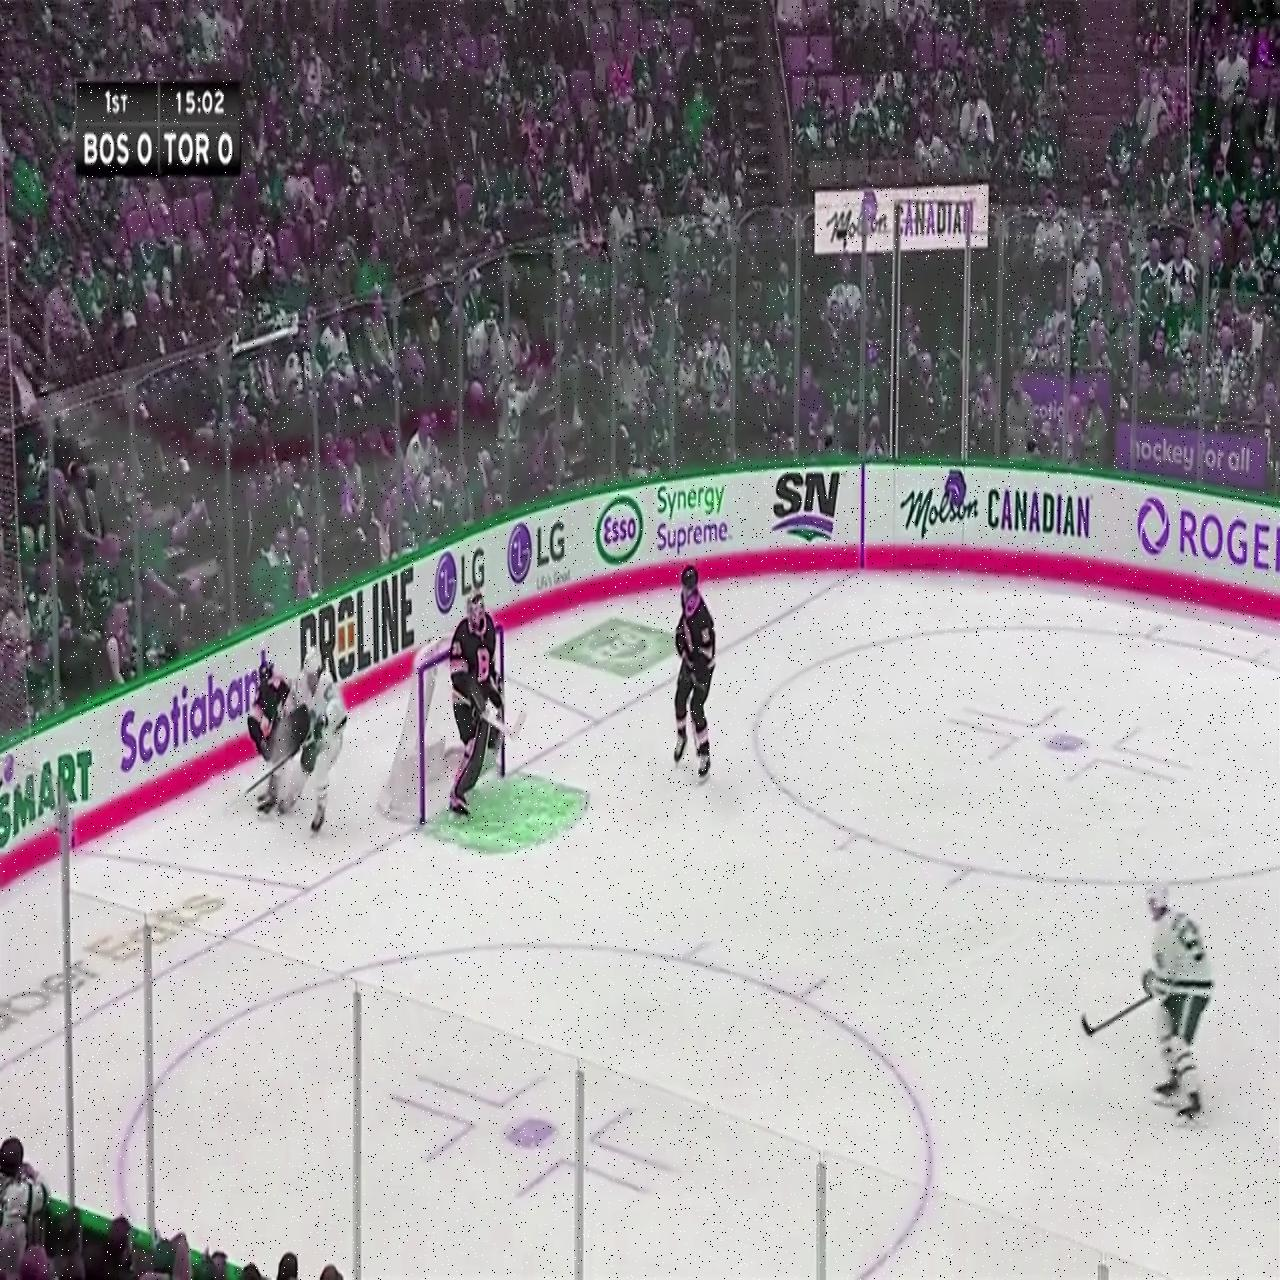Ad: (0, 876, 220, 1050), (893, 457, 1109, 559), (1132, 467, 1279, 613), (597, 454, 730, 588), (287, 572, 414, 714), (114, 670, 277, 771), (0, 733, 94, 853), (422, 511, 496, 628), (511, 484, 573, 617), (770, 459, 847, 554)
